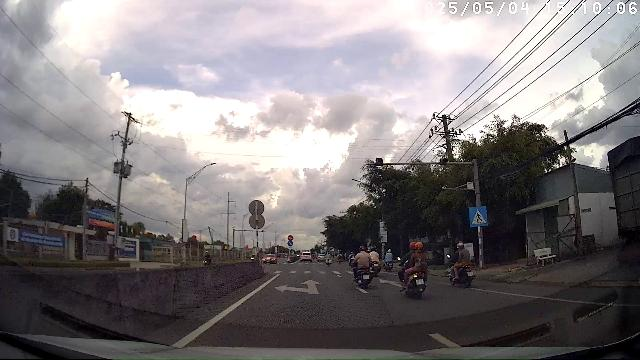102-cam-di-nguoc-chieu: (287, 235, 294, 241)
302a-huong-phai-di-vong-chuong-ngai-vat-1: (287, 240, 293, 246)
423a-duong-nguoi-di-bo-sang-ngang-1: (469, 206, 488, 227)
